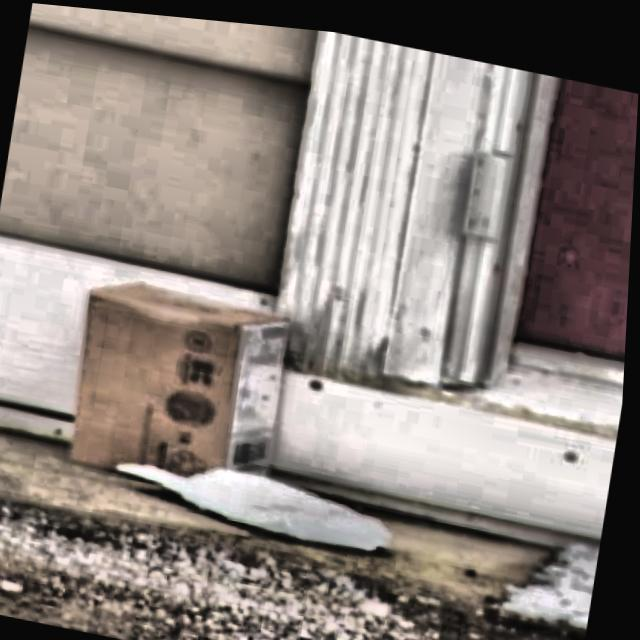Cardbox: (10, 252, 307, 498)
